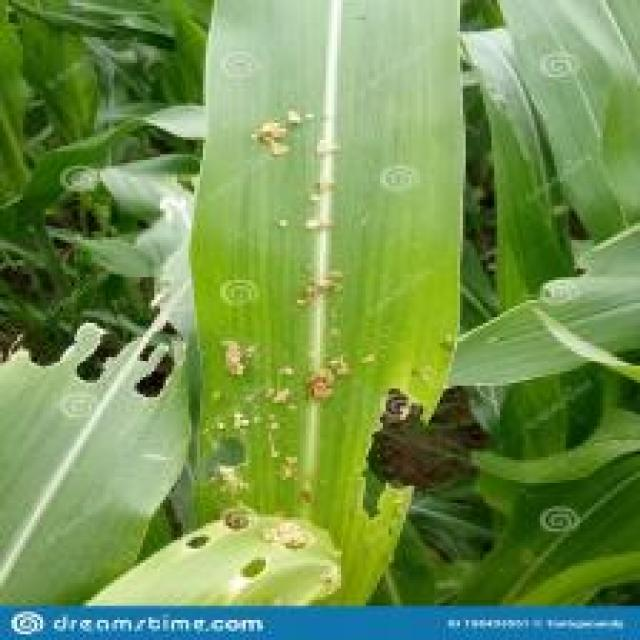Plaga: (251, 115, 334, 170), (211, 448, 271, 517), (304, 361, 358, 418), (297, 273, 365, 316), (220, 337, 268, 388), (266, 528, 323, 563), (295, 209, 347, 244)
